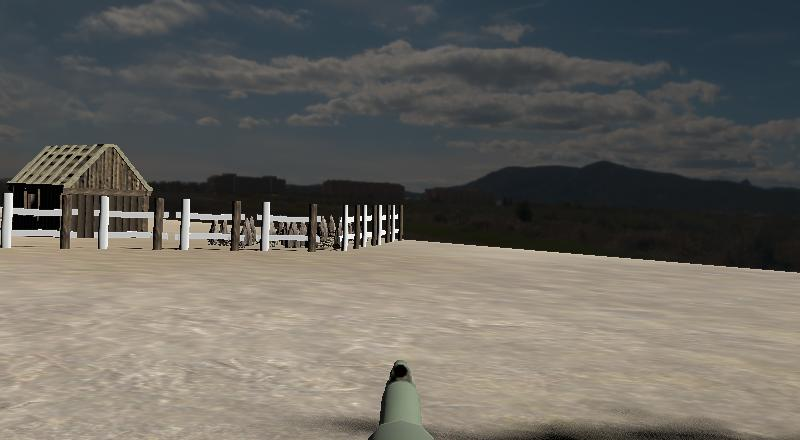House: (10, 144, 155, 232)
